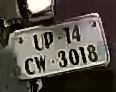0: (67, 48, 80, 65)
1: (78, 45, 90, 65), (63, 26, 72, 44)
3: (56, 50, 69, 70)
4: (72, 24, 81, 43)
8: (88, 43, 98, 64)
C: (23, 56, 35, 77)
P: (43, 31, 55, 50)
U: (32, 32, 45, 52)
W: (33, 54, 46, 72)
